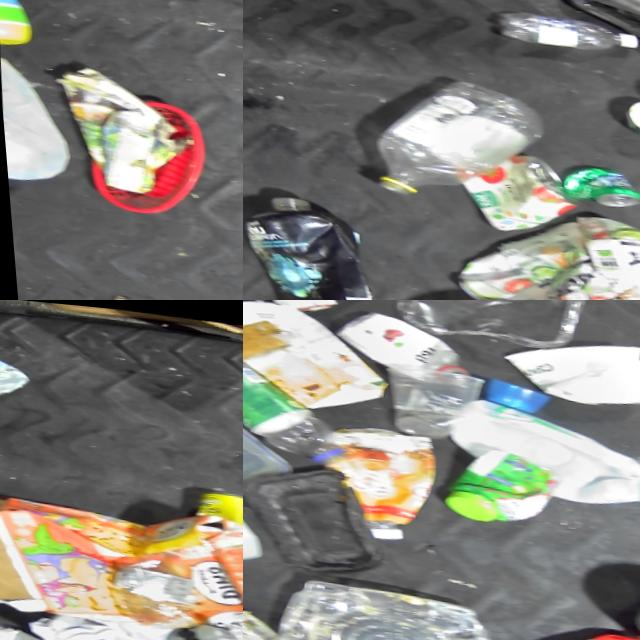can: (456, 142, 574, 230), (558, 158, 640, 201), (617, 84, 640, 134)
milk_jug: (449, 391, 640, 502), (0, 53, 68, 191)
non_white_jug: (243, 188, 391, 300), (321, 419, 441, 542), (506, 616, 640, 640)
plastic_bottle: (352, 66, 553, 211), (243, 352, 348, 463), (495, 0, 639, 52)
